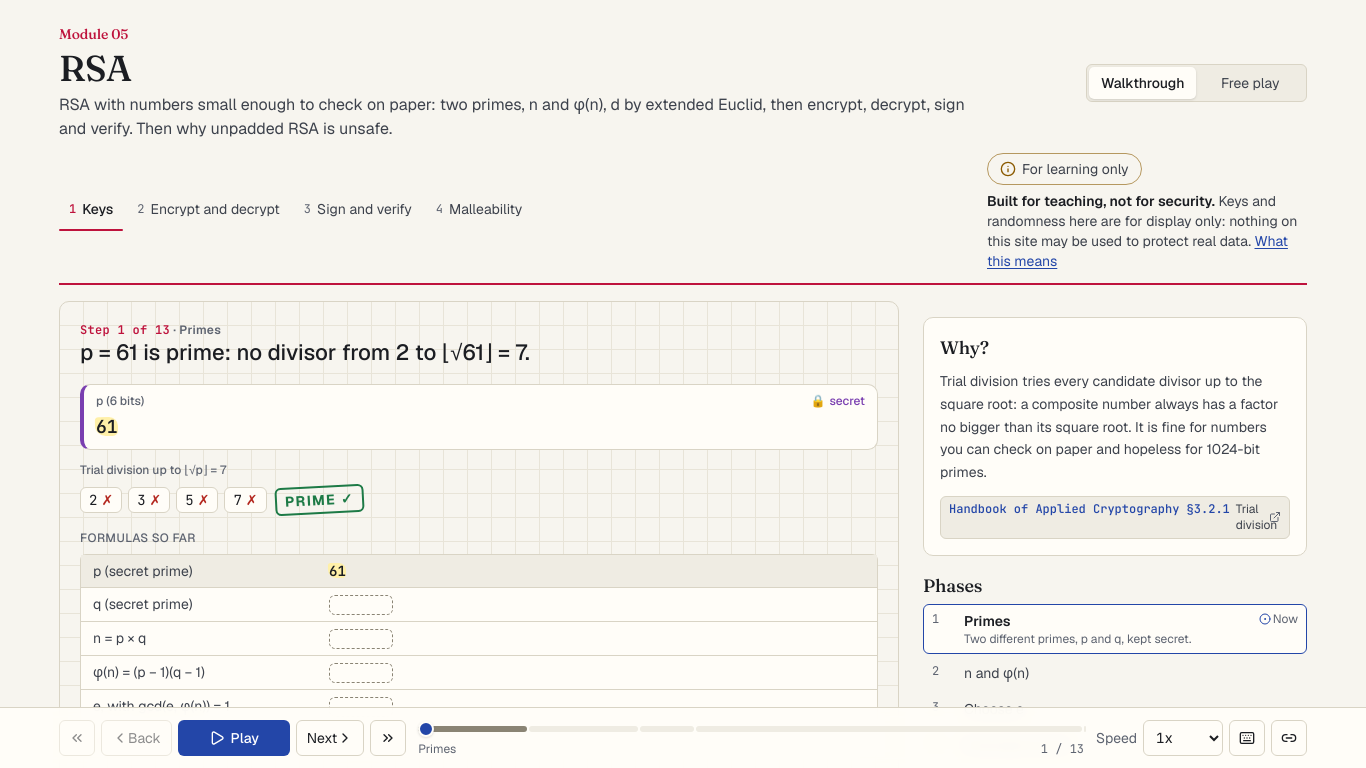
it: RsaModule › gives prime feedback in free play and refuses a composite
The image size is (1366, 768).
Click the button "Free play". click: (1250, 82)
box: [1196,66,1304,98]
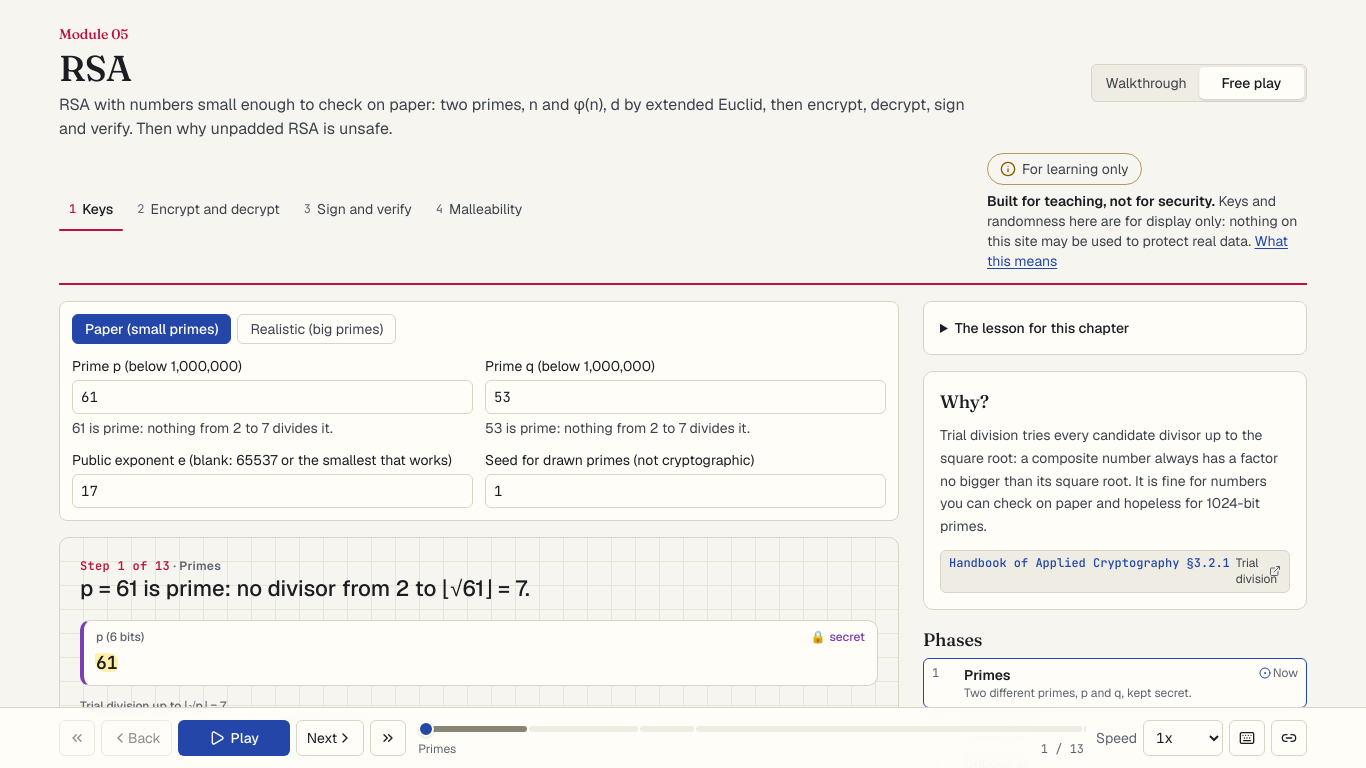
Replace the text in the field labelled "Prime p (below 1,000,000)" with "91". click: (272, 397)
box: [72,380,473,414]
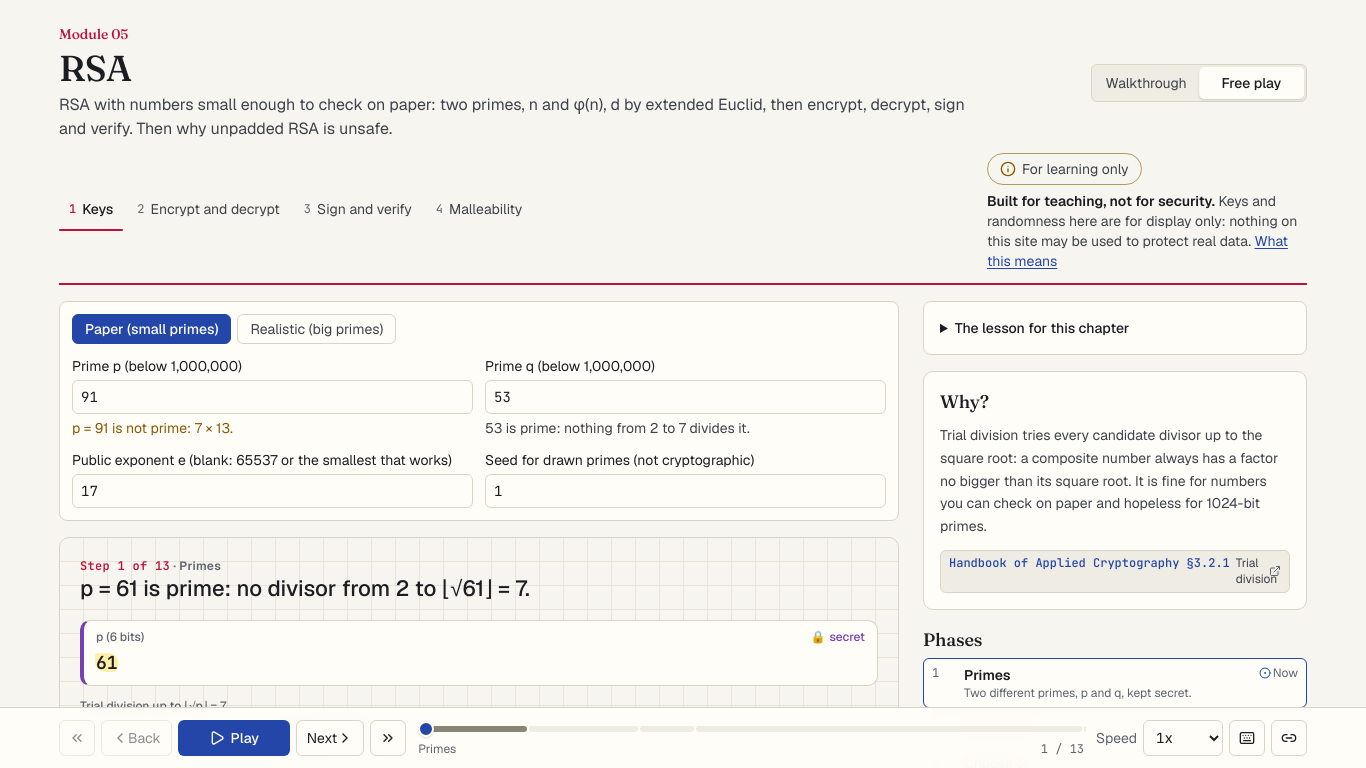
Result: the text with test id "rsa-p-feedback" reads "p = 91 is not prime: 7 × 13." at [72,419,233,437]
Replace the text in the field labelled "Prime p (below 1,000,000)" with "5". click: (272, 397)
box: [72,380,473,414]
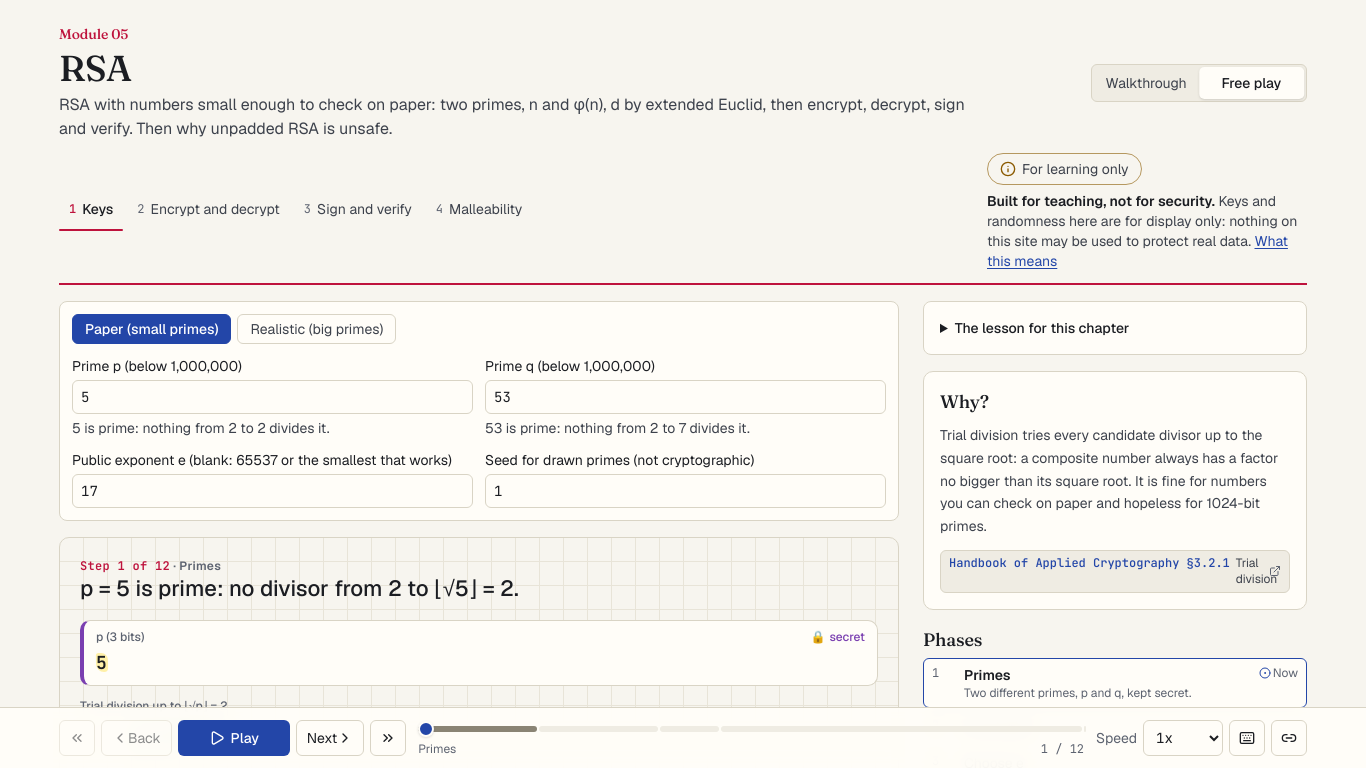
Replace the text in the field labelled "Prime q (below 1,000,000)" with "11". click: (686, 397)
box: [485,380,886,414]
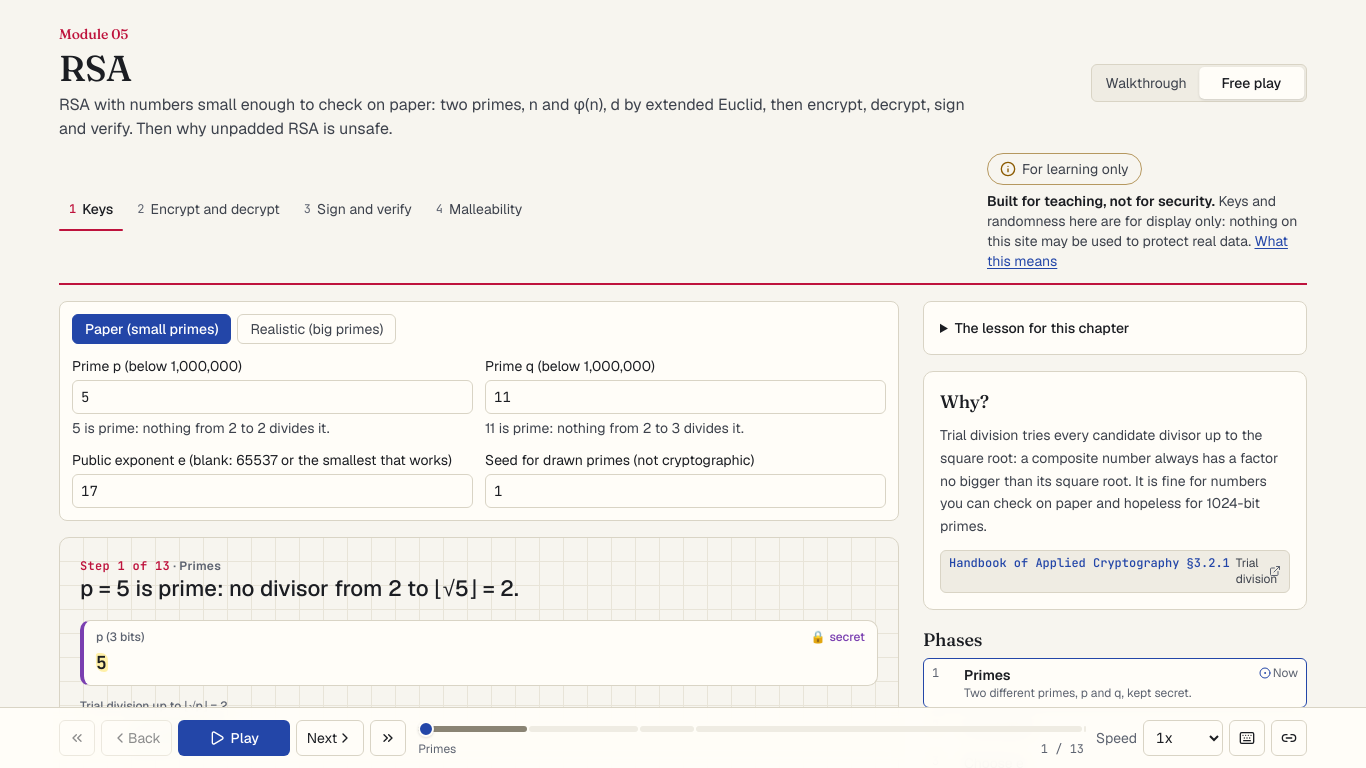
Result: the text with test id "rsa-q-feedback" shows "11 is prime" at [485,419,744,437]
Press End
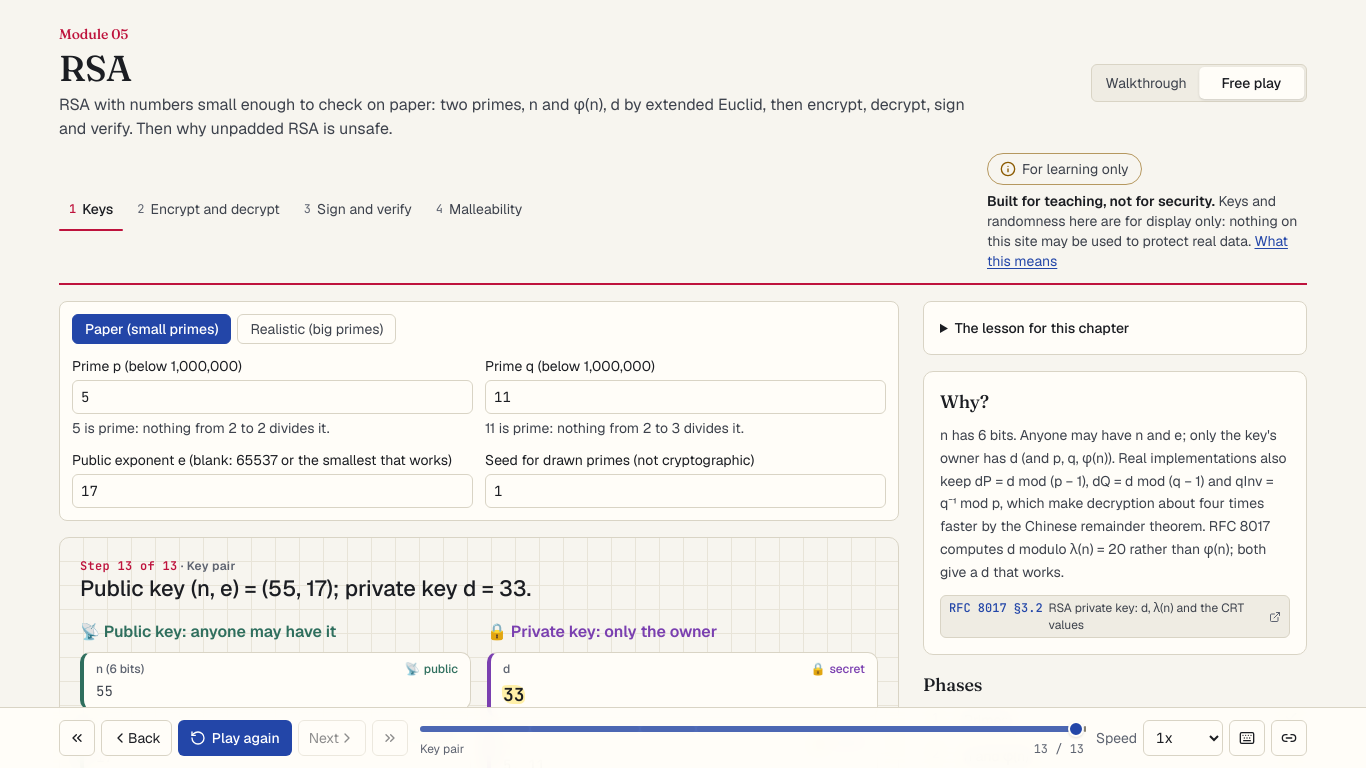
Result: the message shows "Public key (n, e) = (55, 17)" at [80,574,531,602]
